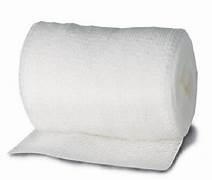cotton: (11, 22, 196, 169), (12, 130, 181, 169)
